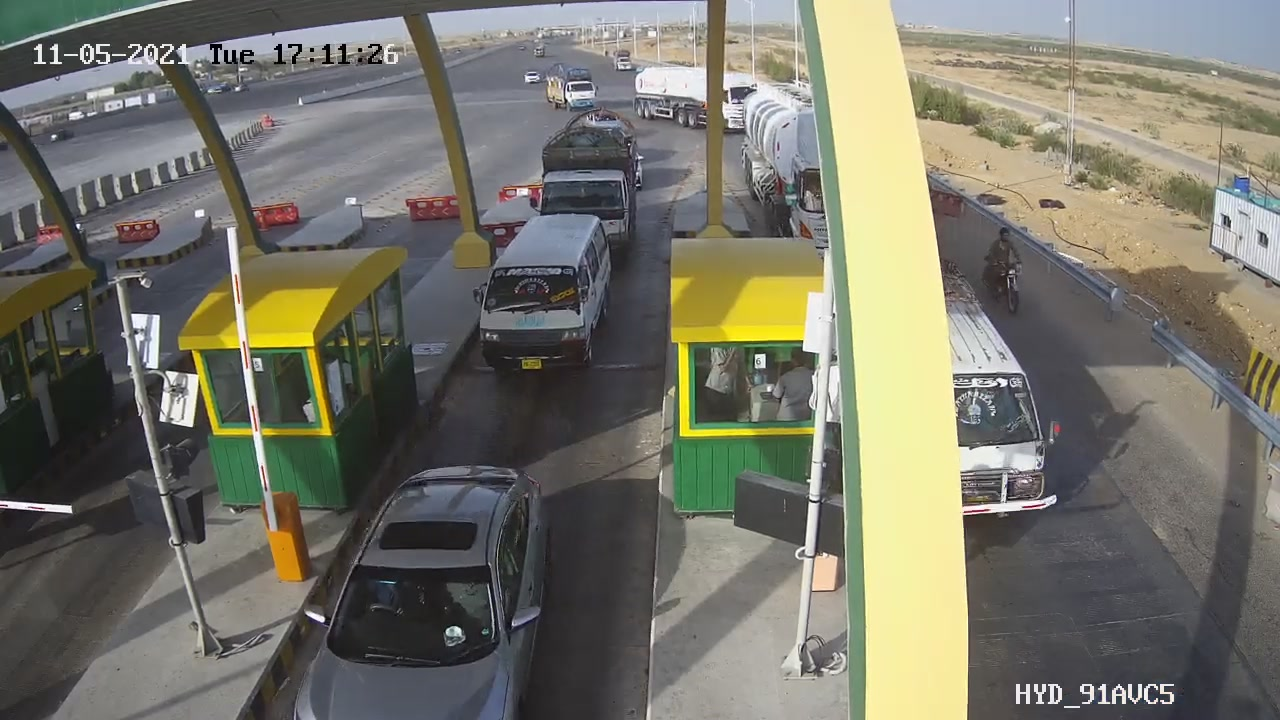F2: (450, 203, 638, 395)
